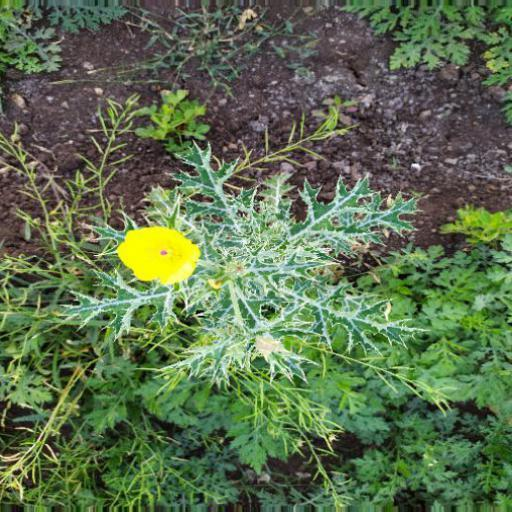weed: (21, 145, 491, 488)
